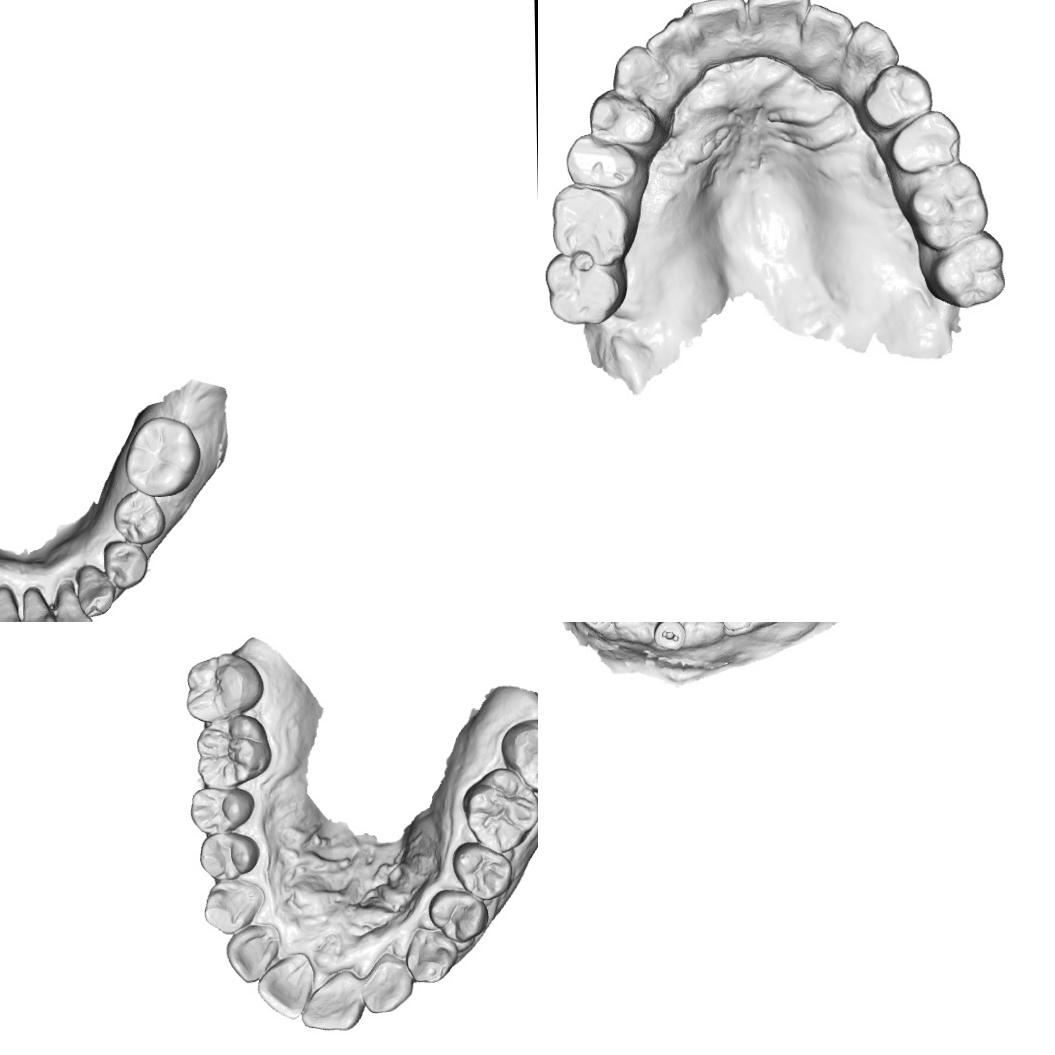canine: (608, 43, 674, 111), (841, 18, 902, 88), (202, 878, 266, 936), (404, 925, 458, 984), (74, 561, 118, 619)
implant: (717, 622, 756, 638)
implant_minus: (650, 622, 688, 654)
implant_plus: (578, 622, 618, 636)
incisor: (299, 967, 365, 1033), (256, 952, 316, 1020), (684, 0, 752, 59), (224, 922, 282, 984), (798, 0, 855, 63), (743, 0, 814, 48), (363, 950, 415, 1014), (644, 17, 692, 80), (55, 579, 94, 622), (21, 585, 58, 622), (0, 585, 24, 622)
molar: (902, 162, 992, 252), (548, 184, 639, 268), (924, 230, 1009, 310), (461, 766, 538, 854), (123, 415, 203, 498), (542, 252, 627, 327), (194, 714, 272, 788), (184, 651, 264, 723), (500, 714, 538, 795)
premolar: (860, 60, 938, 132), (886, 108, 966, 178), (584, 86, 662, 154), (564, 131, 645, 194), (450, 840, 514, 901), (427, 888, 490, 944), (190, 785, 256, 836), (197, 831, 261, 881), (113, 488, 166, 546), (102, 540, 154, 590)
